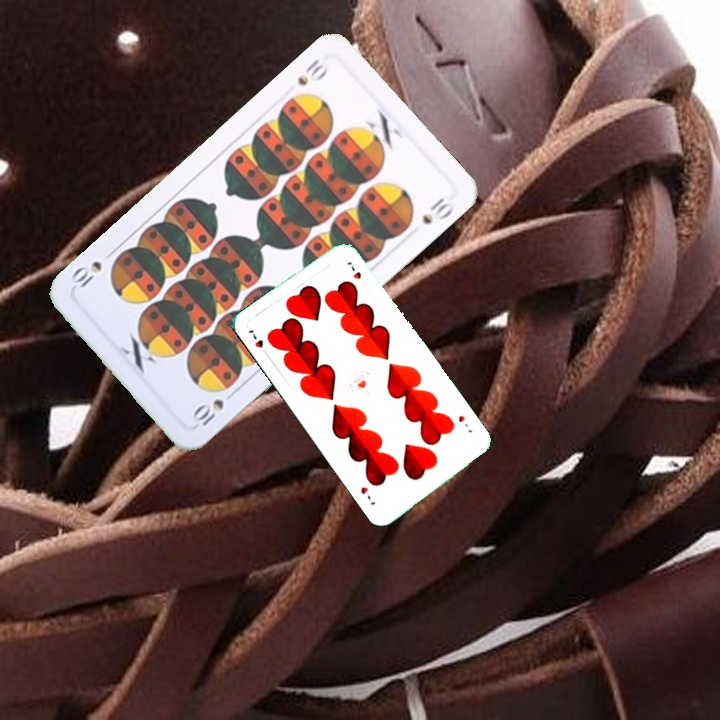H7: (244, 325, 272, 359), (454, 411, 475, 435)
S10: (188, 386, 240, 429), (293, 54, 331, 89)
